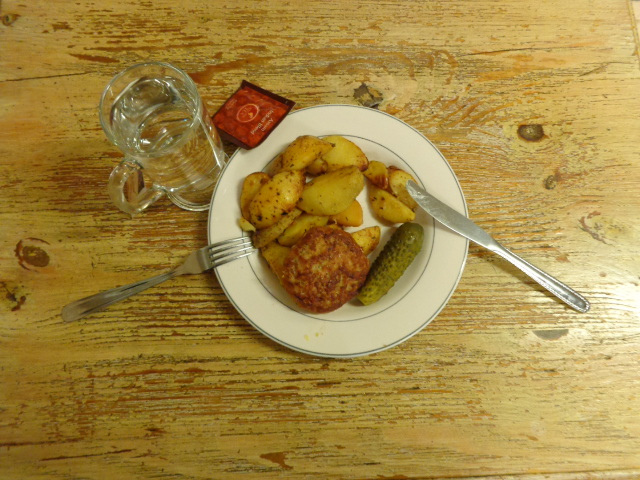boiled potatoes: (245, 140, 419, 228)
